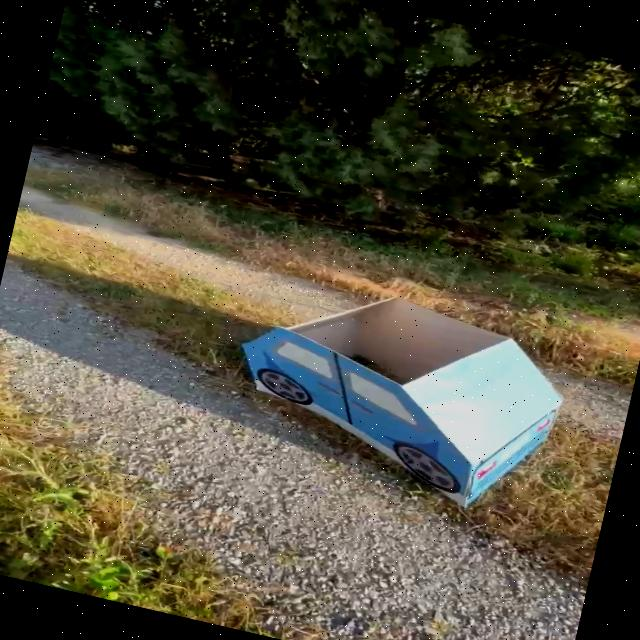blue_car: (181, 216, 609, 525)
